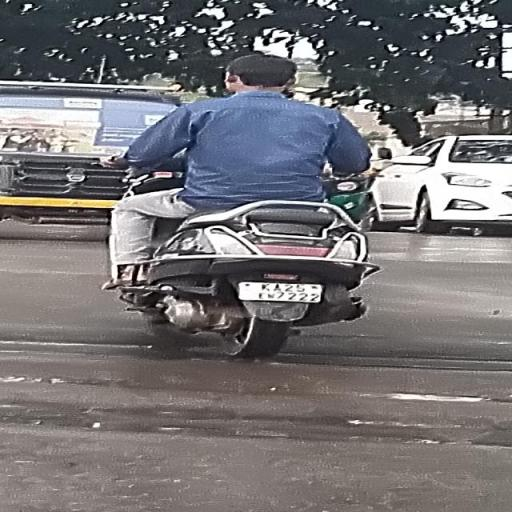bike: (96, 50, 388, 360)
numberplate: (242, 278, 328, 308)
withouthelmet: (227, 56, 296, 91)
